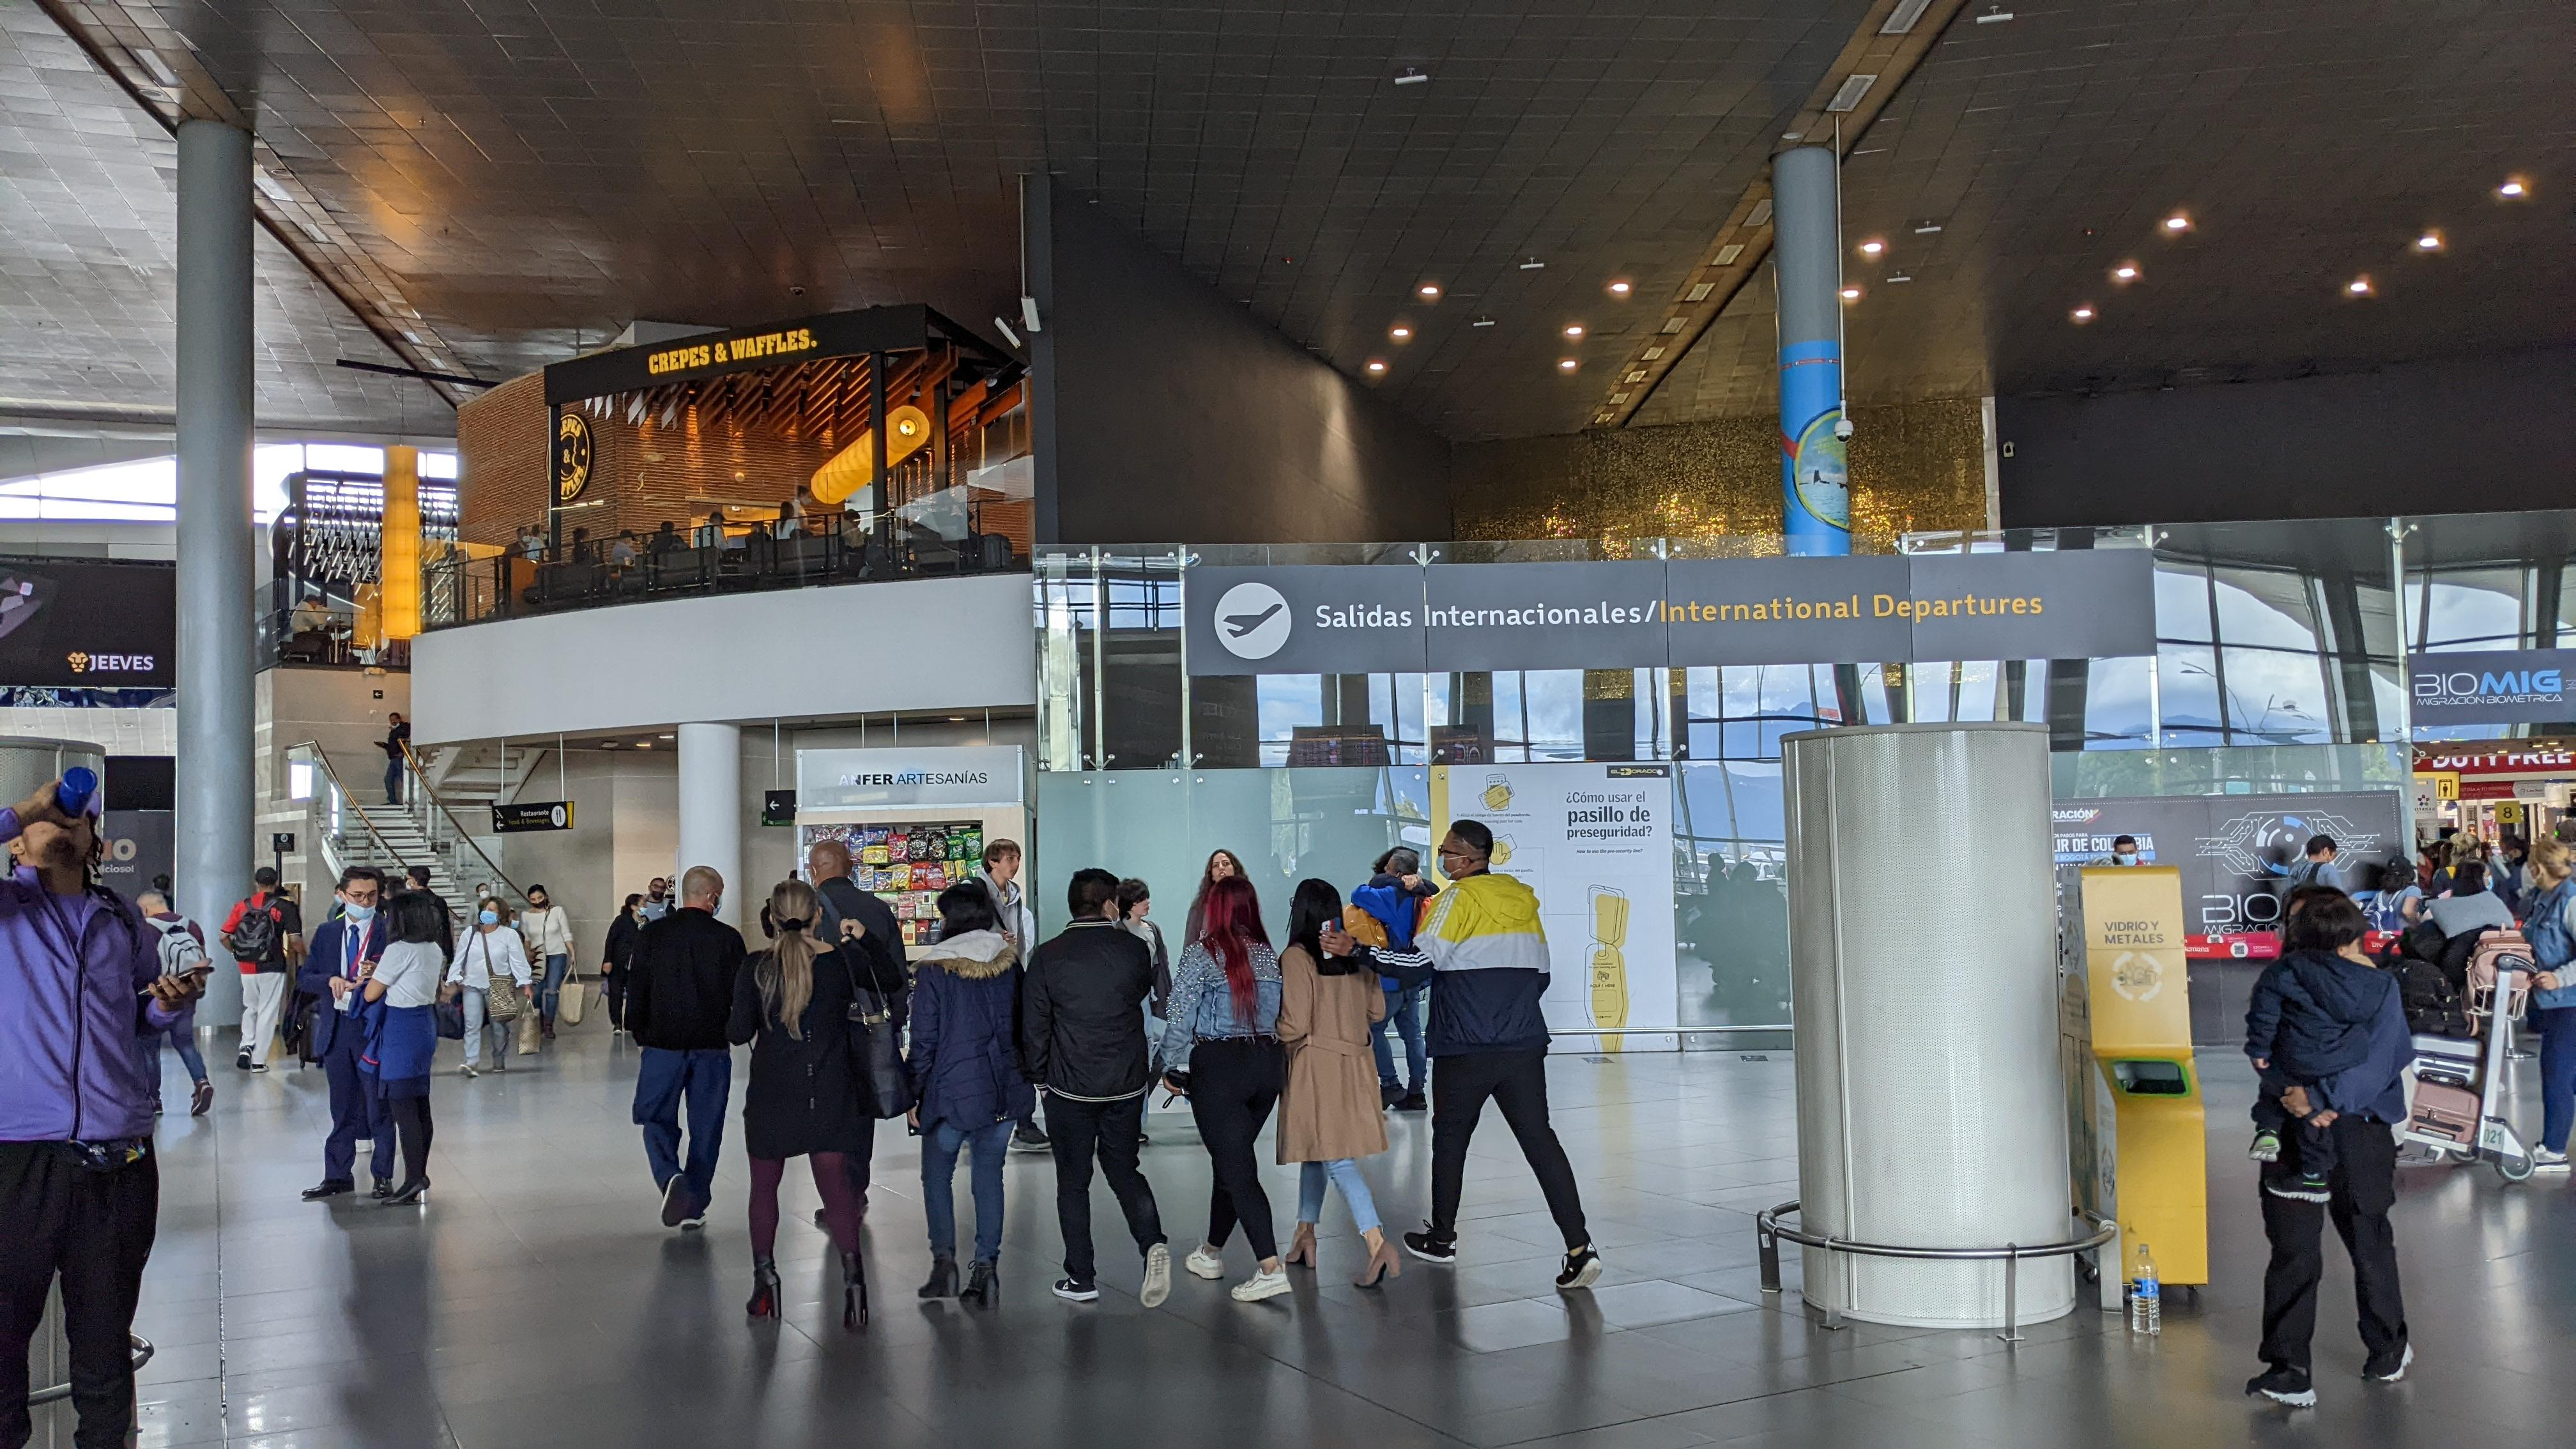airplane symbol: (1223, 600, 1284, 639)
